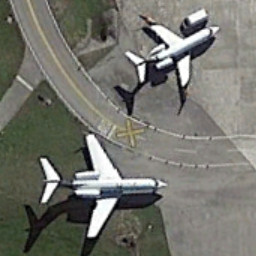Airplane: (26, 123, 176, 248), (121, 13, 222, 104)
